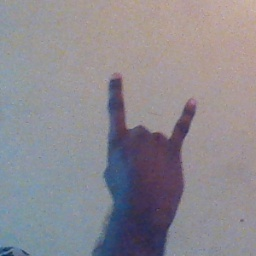V: (101, 67, 205, 208)
